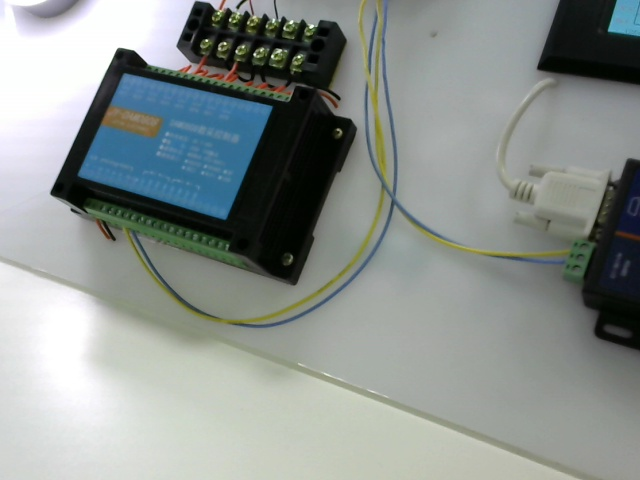relay: (43, 58, 320, 269)
